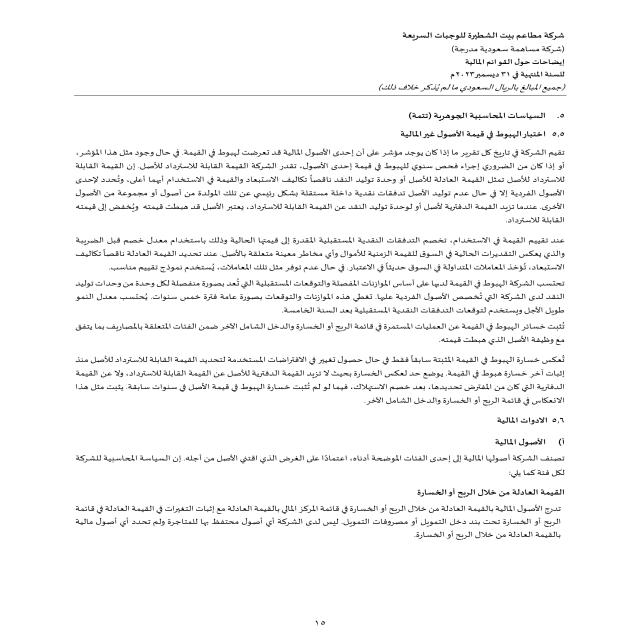notes: (449, 56, 568, 68)
text: (57, 104, 564, 554)
